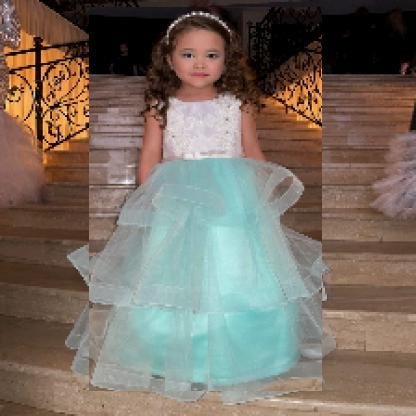child: (90, 8, 324, 393)
